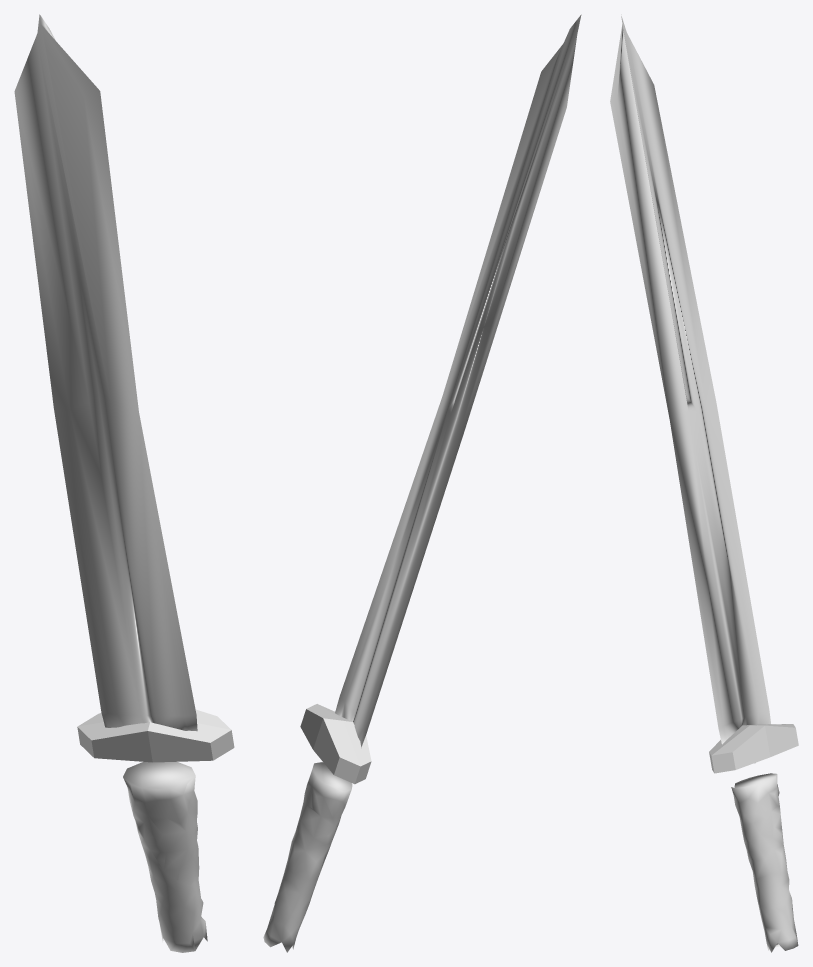
Rendered from knight-sword.gltf.
The picture shows the model from 3 angles, left to right: view 1: azimuth 30°, elevation 25°; view 2: azimuth 150°, elevation 25°; view 3: azimuth 270°, elevation 25°; orthographic projection. The views are drawn at different scales.
Parts seen in each view (by area): view 1: Cube.003; view 2: Cube.003; view 3: Cube.003.
Part boxes in pixels (left/top/right/bottom): Cube.003: left=14, top=14, right=234, bottom=952; Cube.003: left=263, top=14, right=581, bottom=952; Cube.003: left=610, top=14, right=798, bottom=952.
Size of the model in its own units: 1.26 by 4.78 by 0.9716.
1 material, 1 textured.
